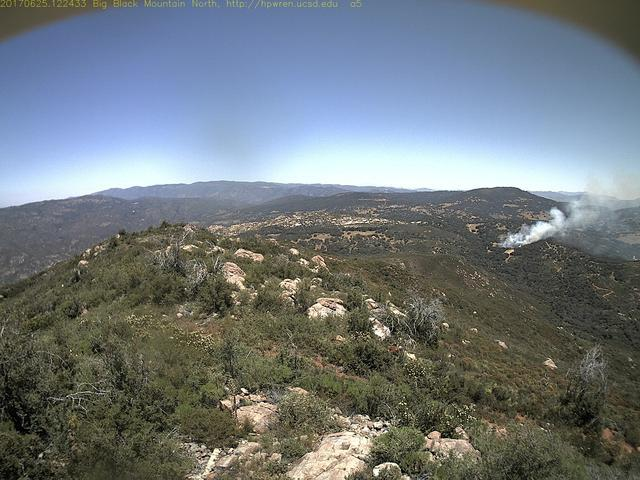smoke: (493, 165, 637, 257)
